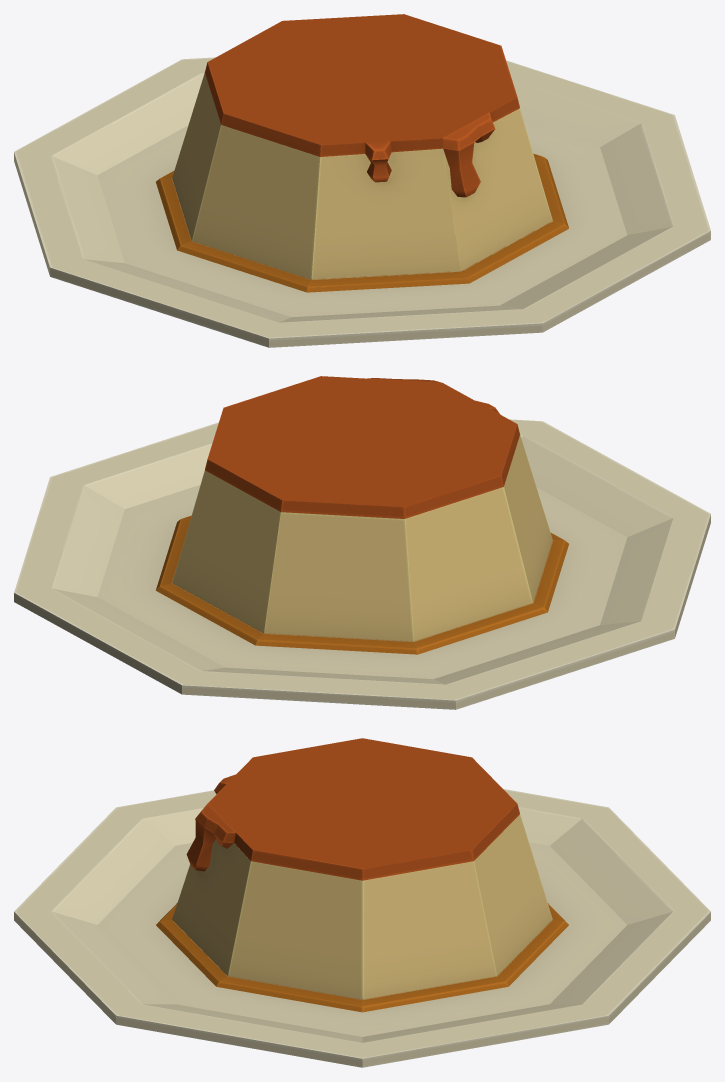
The model's file is cd762257-d05e-40f8-aaed-b3feb1af5d4b.glb.
3 views of the same model, one above another, from view 1: azimuth 30°, elevation 25°; view 2: azimuth 150°, elevation 25°; view 3: azimuth 270°, elevation 25° (orthographic). The views are drawn at different scales.
Visible parts, largest first — view 1: Flan_mesh; view 2: Flan_mesh; view 3: Flan_mesh.
Boxes of the visible parts, <box> form: Flan_mesh: <box>14,14,710,347</box>; Flan_mesh: <box>14,376,710,709</box>; Flan_mesh: <box>14,738,710,1067</box>.
Bounding box in the file's own units: 11.32 × 2.72 × 11.32.
Materials: 1 (1 with a texture image).
